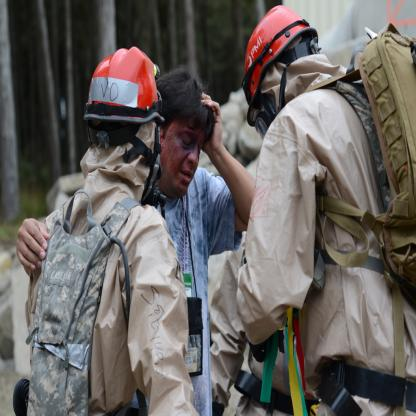Helmet: (82, 46, 169, 202), (244, 12, 327, 124)
